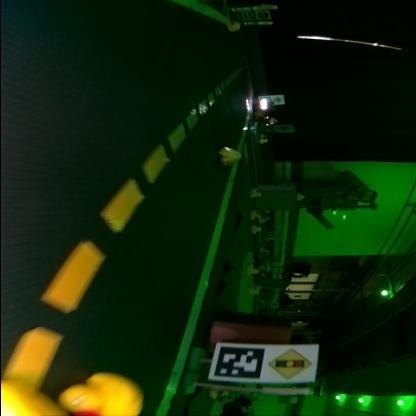Duckie: (61, 372, 144, 414), (221, 146, 242, 163), (250, 188, 262, 198), (250, 224, 262, 234), (248, 264, 258, 274), (252, 210, 260, 218), (270, 118, 278, 124), (297, 192, 304, 198), (260, 139, 268, 144)
Intersection sign: (272, 95, 284, 104)
QR code: (212, 346, 265, 379), (242, 10, 256, 18)
Signal sign: (272, 346, 314, 379)
Stop sign: (258, 10, 270, 18)
